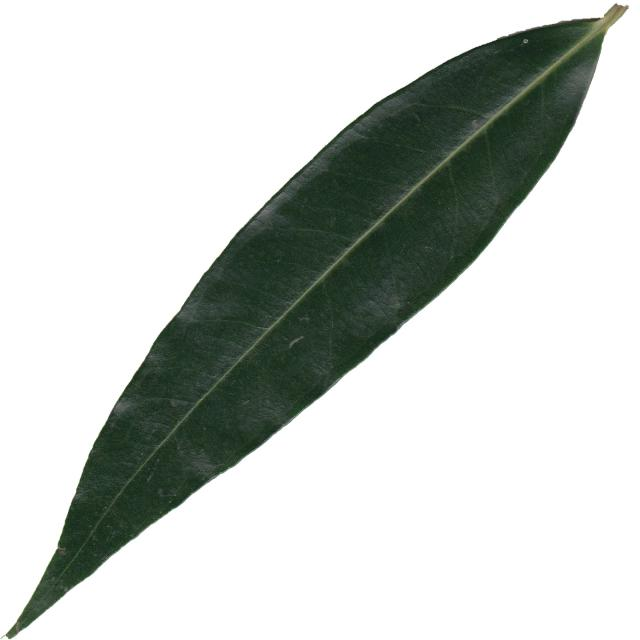Medicinal-Rose Apple: (9, 1, 640, 640)
